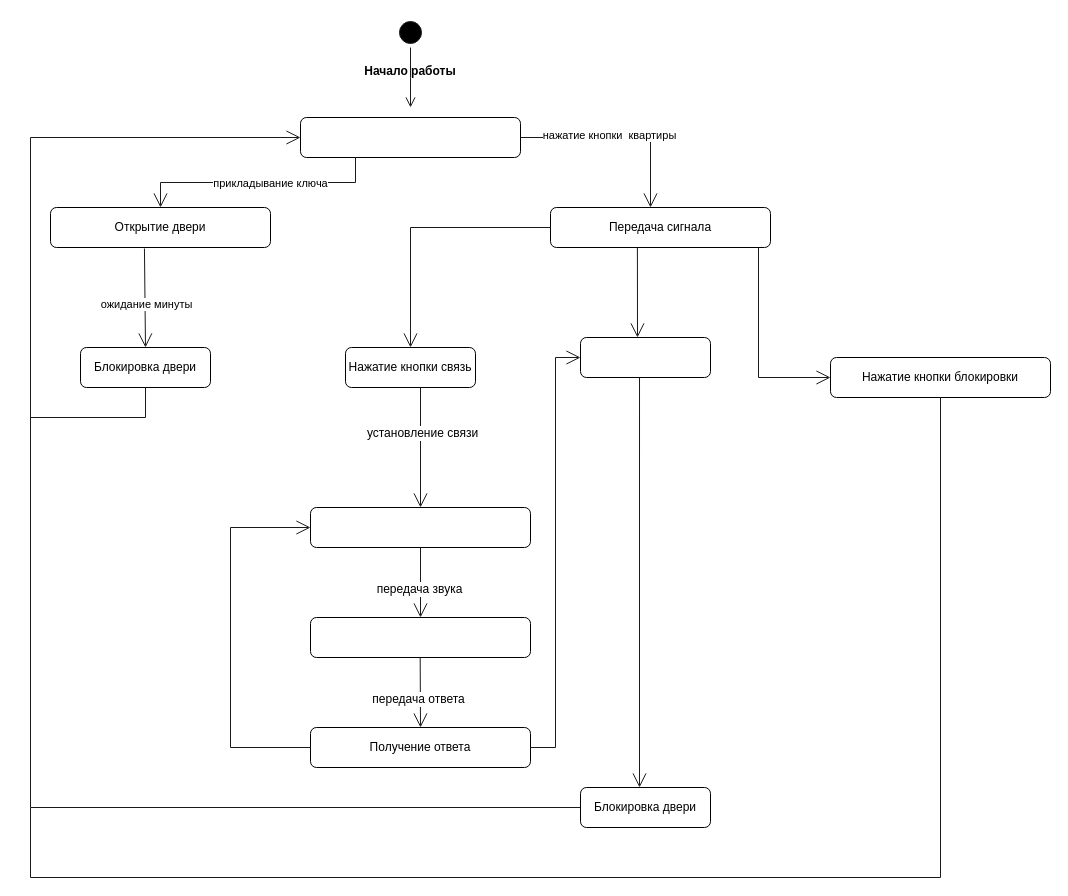
The diagram is 1068 pixels wide and 896 high, and some of its shapes have lost their labels. The centre of each missing label's shape, as x and y in pixels:
"Нажатие кнопки открытия двери" belongs at pixel 645 357.
"Ожидание действия" belongs at pixel 410 137.
"Ожидание ответа" belongs at pixel 420 637.
"Ответ жильца" belongs at pixel 420 527.
